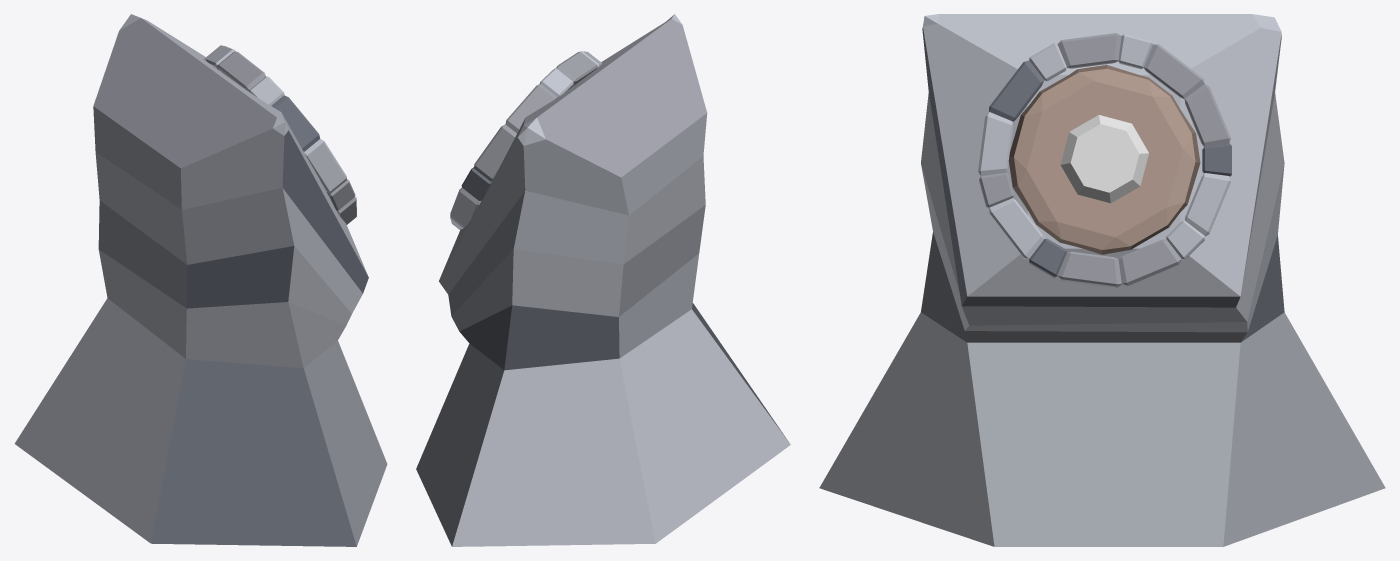
Rendered from PressedButton.fbx.
3 views of the same model, side by side, from view 1: azimuth 30°, elevation 25°; view 2: azimuth 150°, elevation 25°; view 3: azimuth 270°, elevation 25° (orthographic). The views are drawn at different scales.
Parts seen in each view (by area): view 1: Cube, Bouton_Cercle; view 2: Cube, Bouton_Cercle; view 3: Cube, Bouton, Bouton_Cercle, Bouton_Color.
Part boxes in pixels (x1,y1,x2,y2): Cube: (14,14,387,546); Bouton_Cercle: (204,45,356,224); Cube: (416,14,790,546); Bouton_Cercle: (450,51,601,229); Cube: (819,14,1385,546); Bouton: (1008,65,1200,254); Bouton_Cercle: (978,33,1231,287); Bouton_Color: (1060,115,1148,203).
Size of the model in its own units: 300 by 444 by 496.
